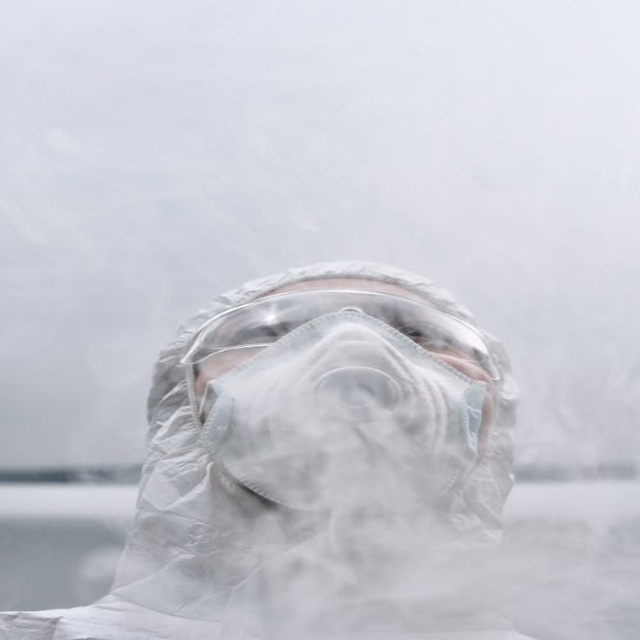Gafas: (179, 288, 494, 385)
Mascara: (197, 313, 487, 516)
